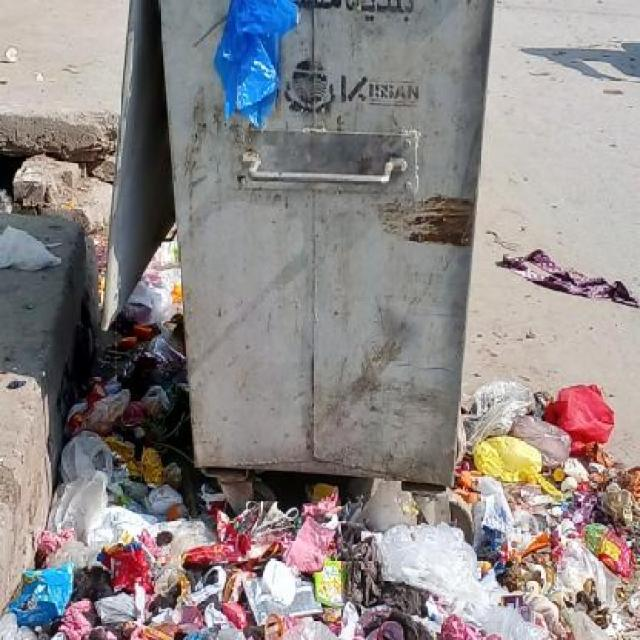garbage: (203, 477, 639, 640), (89, 211, 203, 640), (9, 392, 92, 634), (451, 388, 640, 477), (497, 235, 640, 322), (214, 3, 308, 126), (2, 217, 62, 292)
